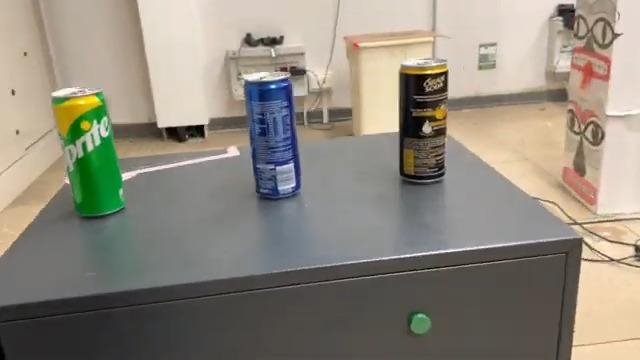Pepsi: (240, 66, 306, 206), (394, 54, 450, 188)
Sprite: (46, 81, 132, 223)
